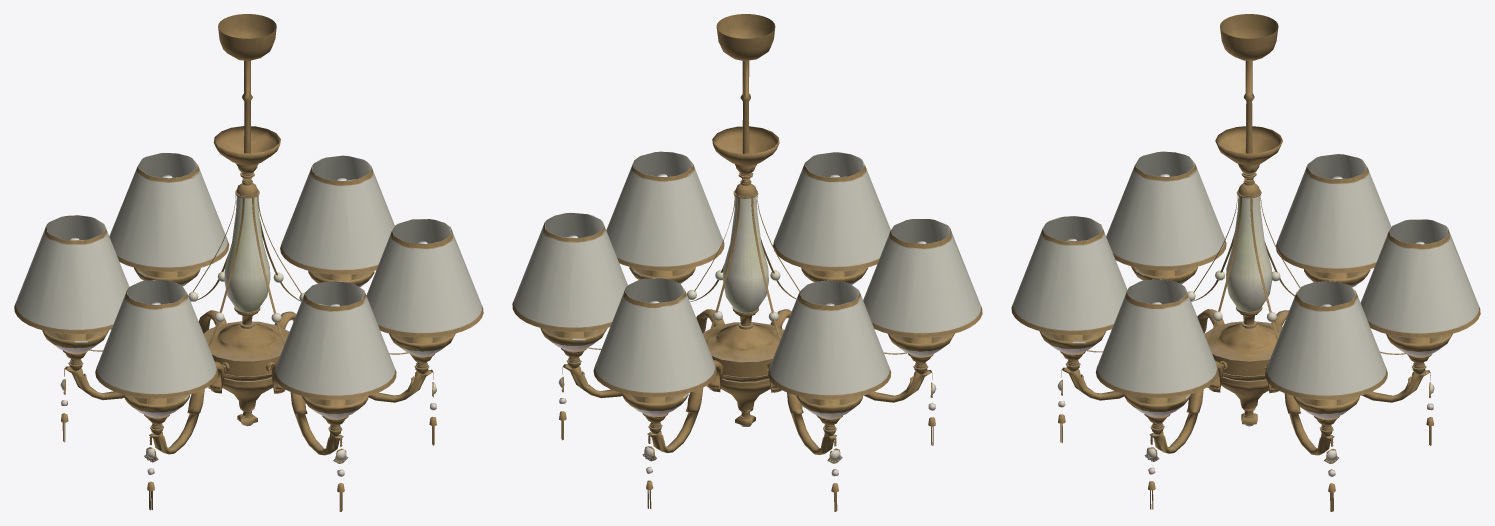
File: Chandelier_01.glb
3 renders of one model, left to right at view 1: azimuth 30°, elevation 25°; view 2: azimuth 150°, elevation 25°; view 3: azimuth 270°, elevation 25°, orthographic.
Parts seen in each view (by area): view 1: Chandelier_01; view 2: Chandelier_01; view 3: Chandelier_01.
Part boxes in pixels (x1,y1,x2,y2): Chandelier_01: (14,14,483,511); Chandelier_01: (512,14,982,511); Chandelier_01: (1011,14,1480,511).
Bounding box in the file's own units: 0.7465 × 0.7983 × 0.8155.
Materials: 2 (1 with a texture image).
